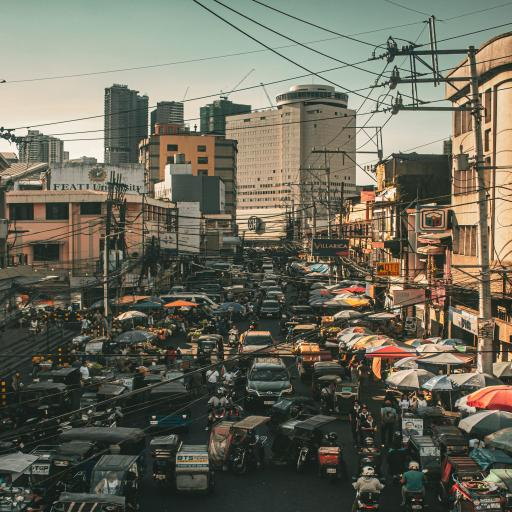bike: (231, 443, 255, 474), (358, 490, 380, 510)
car: (245, 357, 292, 407), (239, 331, 278, 355), (282, 306, 319, 324), (260, 298, 280, 317), (266, 292, 285, 306), (260, 281, 277, 291), (267, 286, 282, 292), (262, 264, 273, 272), (263, 274, 275, 280)
